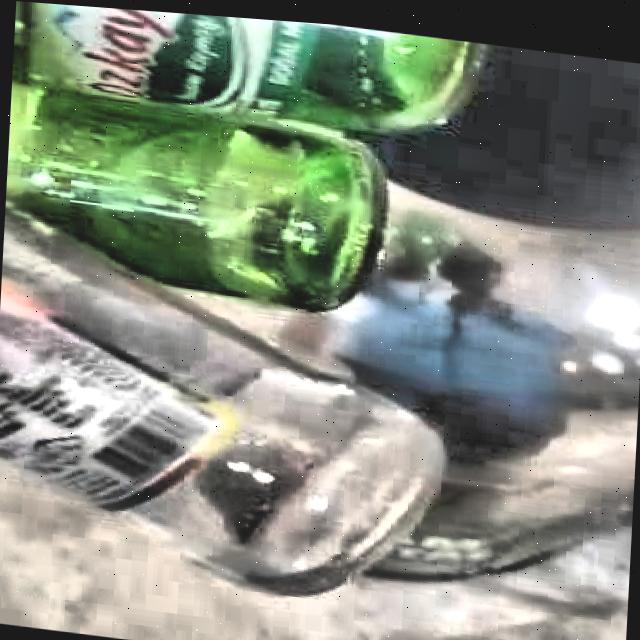glass: (0, 1, 485, 591)
